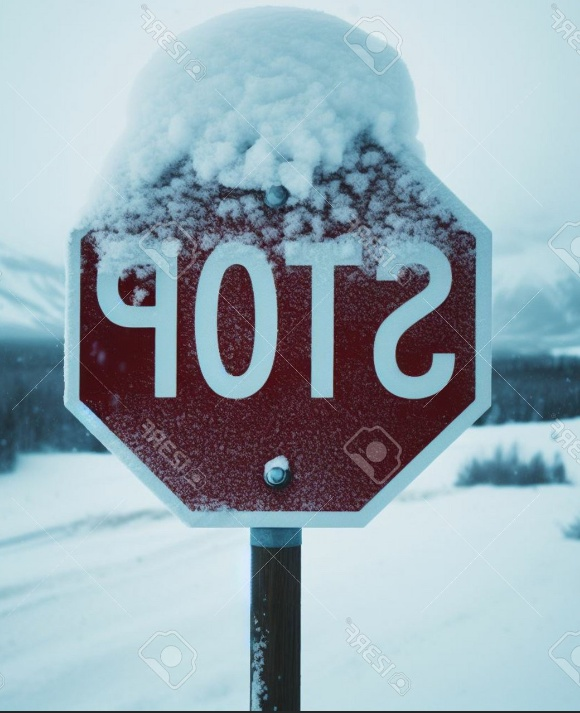Stop: (56, 128, 487, 546)
